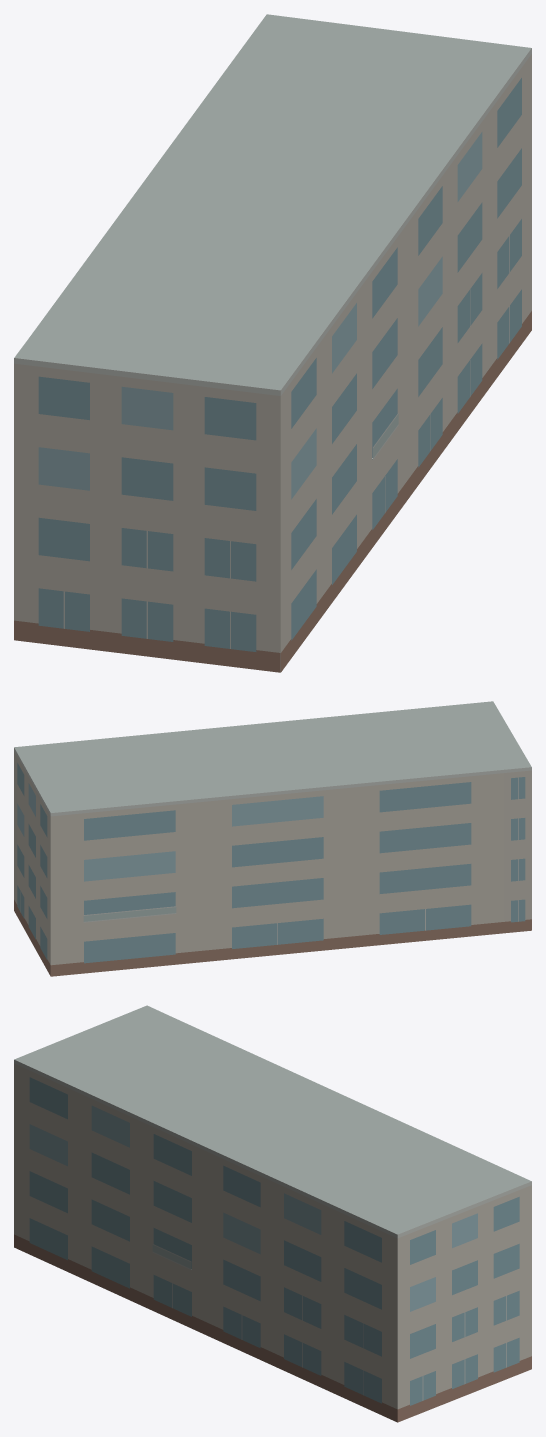
The model's file is survey-upis-32839780.glb.
3 renders of one model, top to bottom at view 1: azimuth 30°, elevation 25°; view 2: azimuth 150°, elevation 25°; view 3: azimuth 270°, elevation 25°, orthographic. The views are drawn at different scales.
Parts seen in each view (by area): view 1: survey-upis-32839780.tmp; view 2: survey-upis-32839780.tmp; view 3: survey-upis-32839780.tmp.
Boxes of the visible parts, left/top/right/bottom form: survey-upis-32839780.tmp: left=14, top=14, right=531, bottom=672; survey-upis-32839780.tmp: left=14, top=701, right=531, bottom=976; survey-upis-32839780.tmp: left=14, top=1005, right=531, bottom=1422.
Size of the model in its own units: 31.67 by 12.1 by 30.23.
